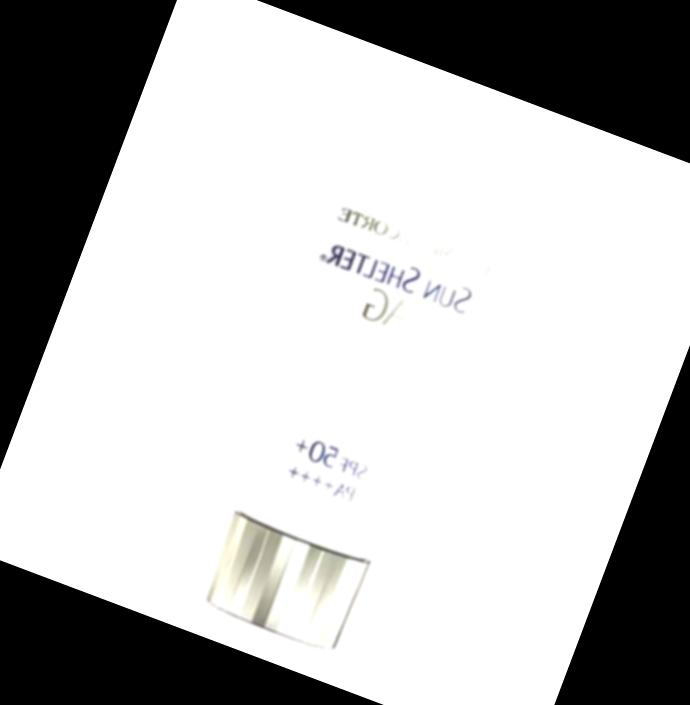cosmetic: (171, 90, 552, 667)
